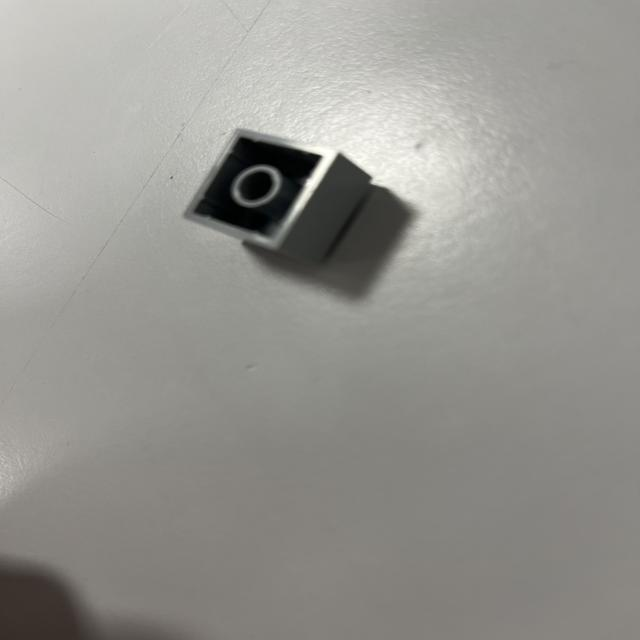C2x2x1: (188, 127, 378, 272)
